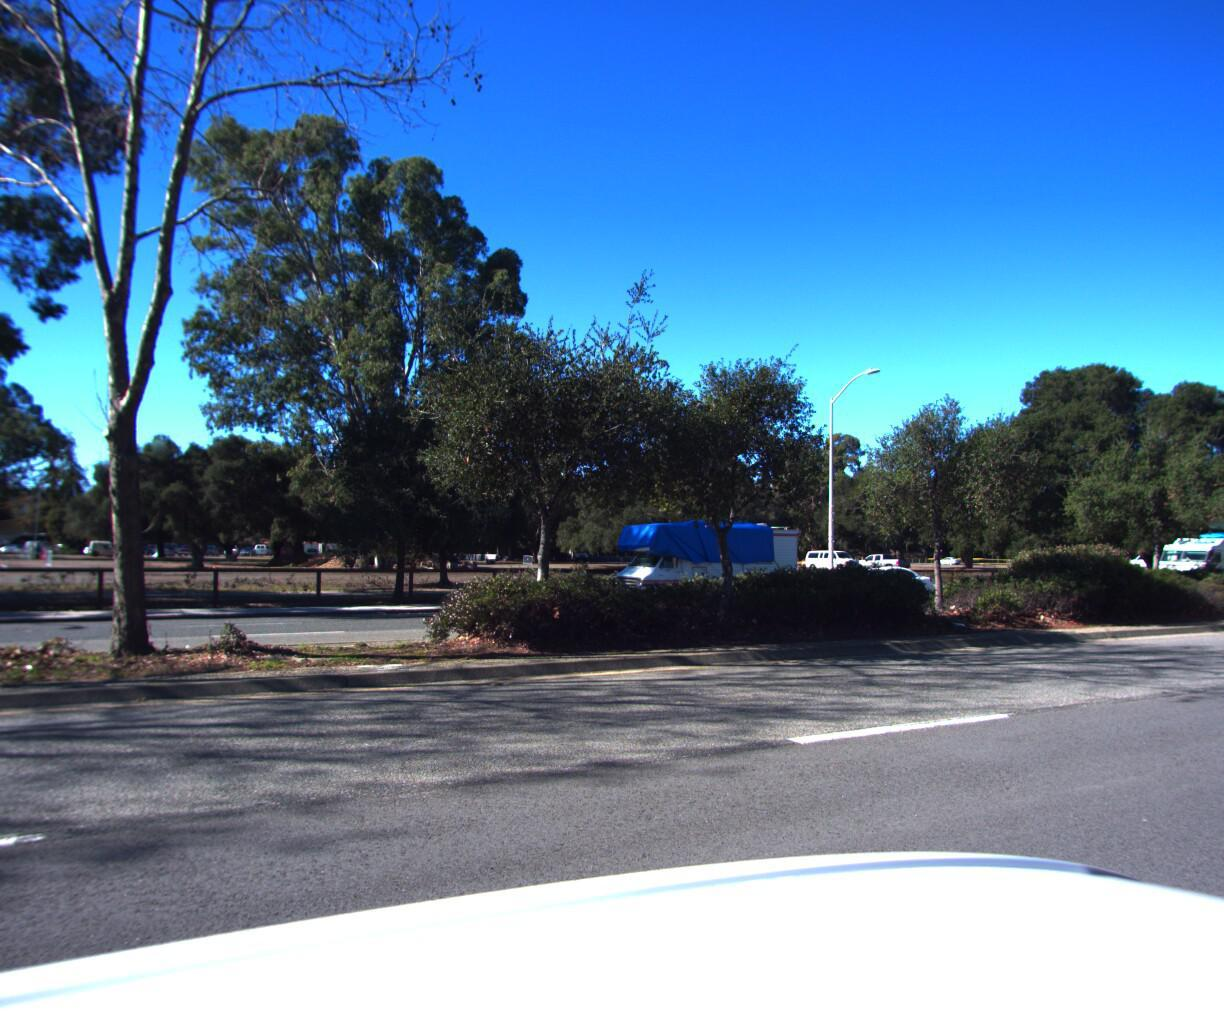car: (817, 561, 937, 601)
other_vehicle: (596, 509, 810, 610), (1145, 524, 1224, 590)
